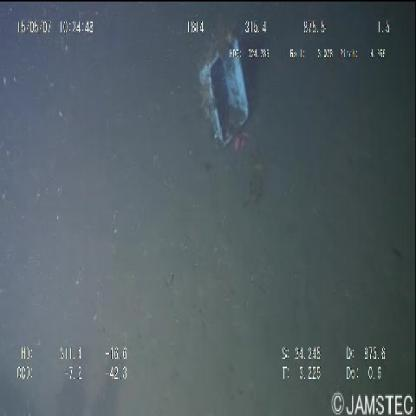Rác: (194, 29, 251, 151)
